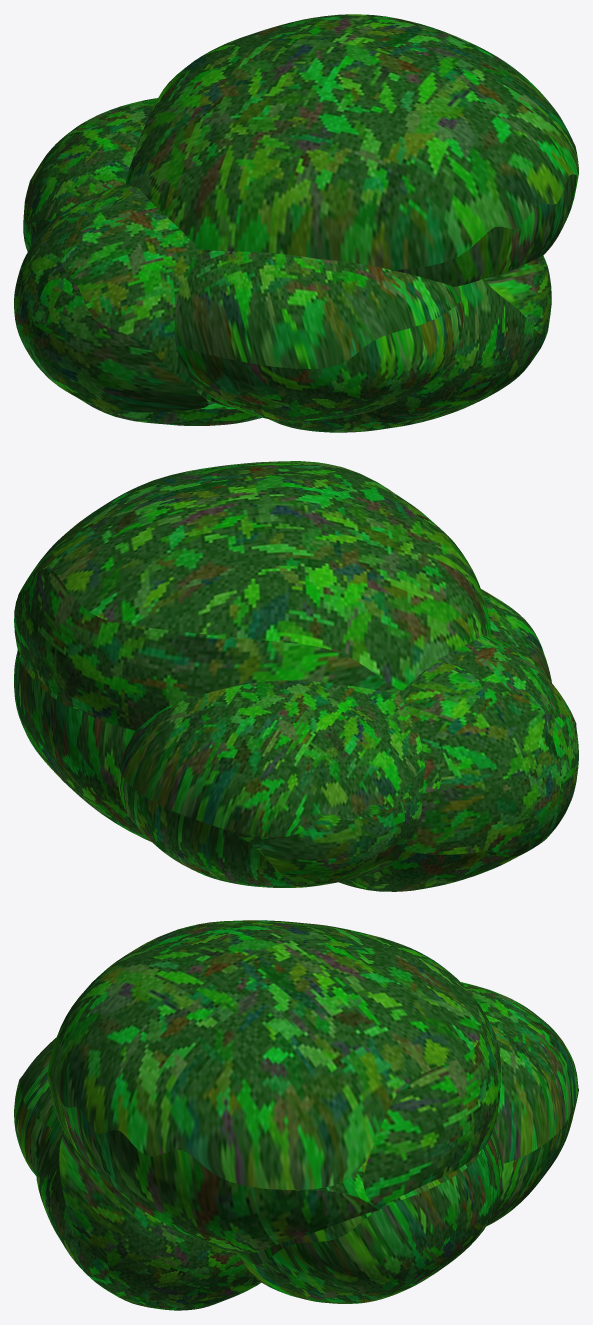
Rendered from plant_bushDetailed.glb.
3 views of the same model, one above another, from view 1: azimuth 30°, elevation 25°; view 2: azimuth 150°, elevation 25°; view 3: azimuth 270°, elevation 25° (orthographic). The views are drawn at different scales.
Parts seen in each view (by area): view 1: Canopy_0; view 2: Canopy_0; view 3: Canopy_0.
Boxes of the visible parts, box(x1,y1,x2,y2) form: Canopy_0: box(14, 14, 578, 432); Canopy_0: box(14, 461, 578, 891); Canopy_0: box(14, 920, 578, 1310).
Size of the model in its own units: 1.8 by 1.11 by 1.65.
1 material, 1 textured.
